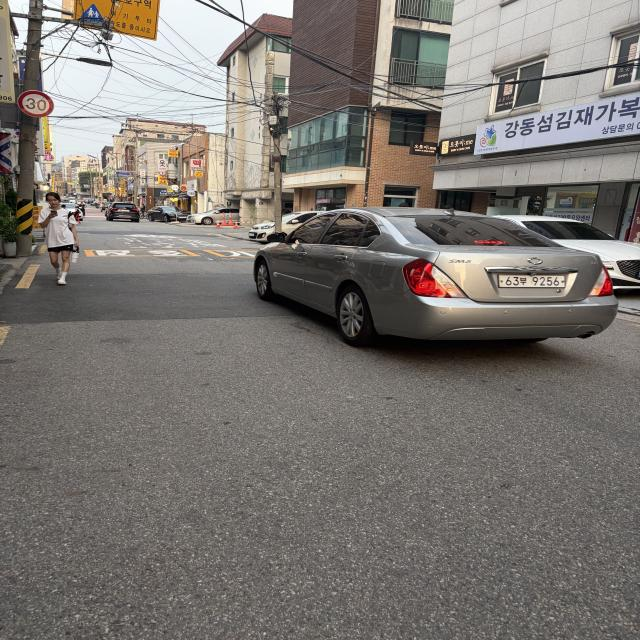car: (242, 195, 635, 384), (97, 197, 145, 229)
